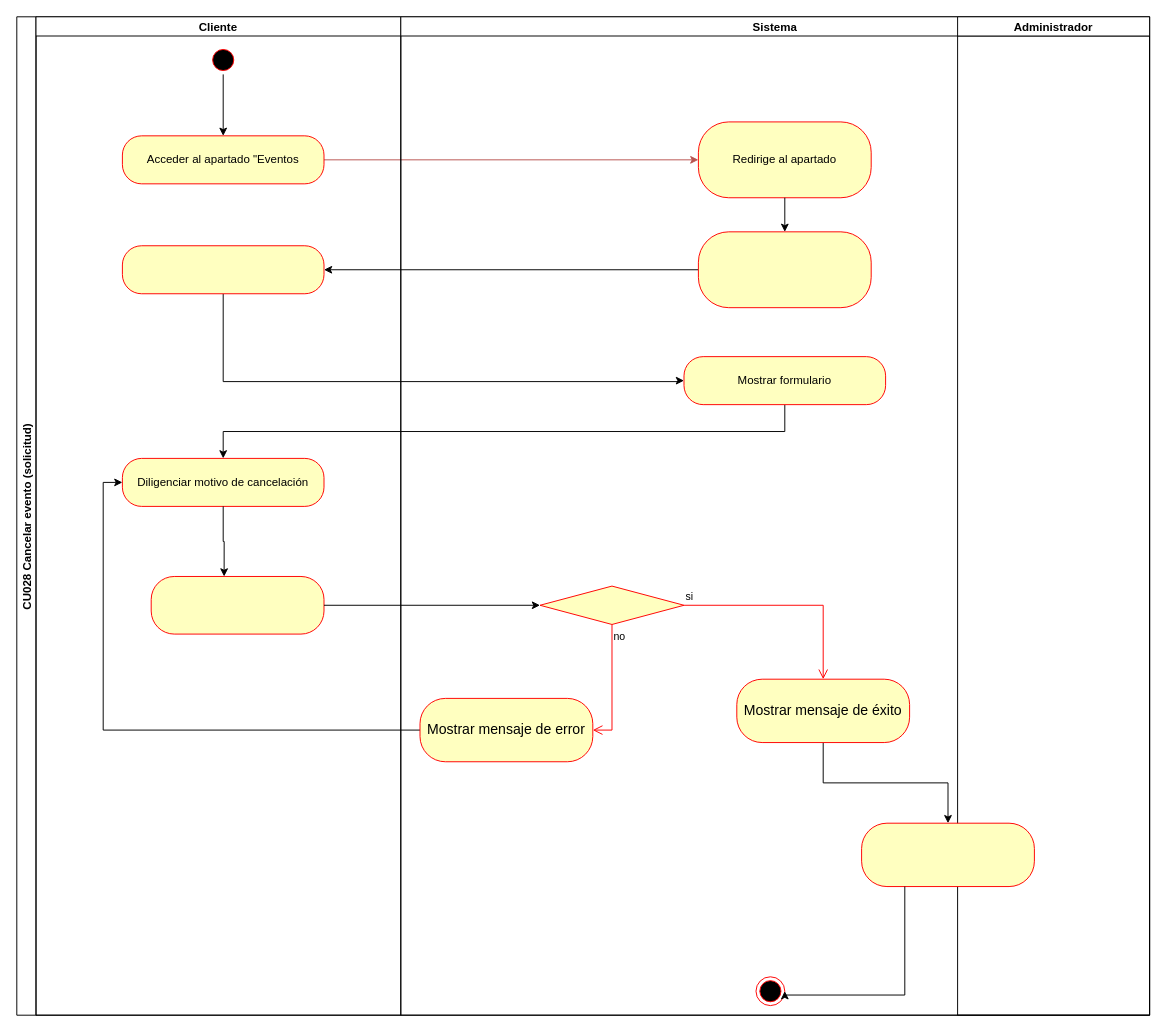
The diagram is 1166 pixels wide and 1032 high, and some of its shapes have lost their labels. The shapes that lost their labels are listed below. From the top down, each one's centre as x and y in pixels, then its label:
the point at 222,269: Pulsar el botón "Cancelar"
the point at 784,269: Muestra lista de eventos
the point at 237,605: Pulsar el botón "Enviar"
the point at 611,604: ¿Campos diligenciados?
the point at 947,854: Notificar al administrador la solicitud
